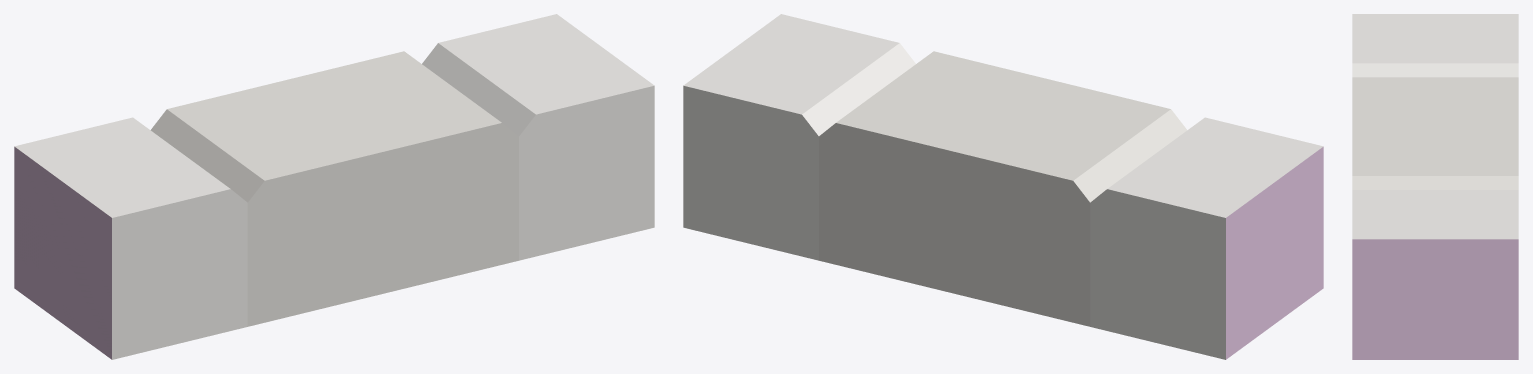
File: Path_Edging_Stones_Straight_1x1.glb
3 renders of one model, left to right at view 1: azimuth 30°, elevation 25°; view 2: azimuth 150°, elevation 25°; view 3: azimuth 270°, elevation 25°, orthographic. The views are drawn at different scales.
Visible parts, largest first — view 1: Path_Edging_Stones_Straight_1x1; view 2: Path_Edging_Stones_Straight_1x1; view 3: Path_Edging_Stones_Straight_1x1.
Boxes of the visible parts, left/top/right/bottom form: Path_Edging_Stones_Straight_1x1: left=14, top=14, right=654, bottom=359; Path_Edging_Stones_Straight_1x1: left=683, top=14, right=1323, bottom=359; Path_Edging_Stones_Straight_1x1: left=1352, top=14, right=1518, bottom=359.
Size of the model in its own units: 100 by 25 by 31.25.
